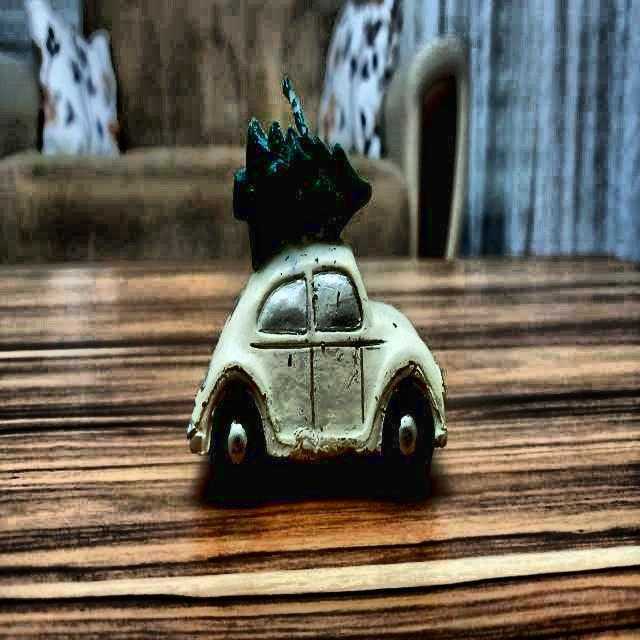carro: (177, 238, 450, 496)
